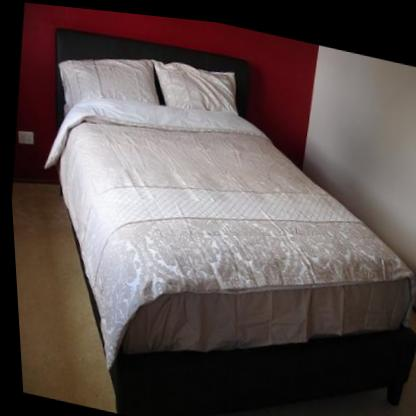Bed: (5, 7, 416, 416)
